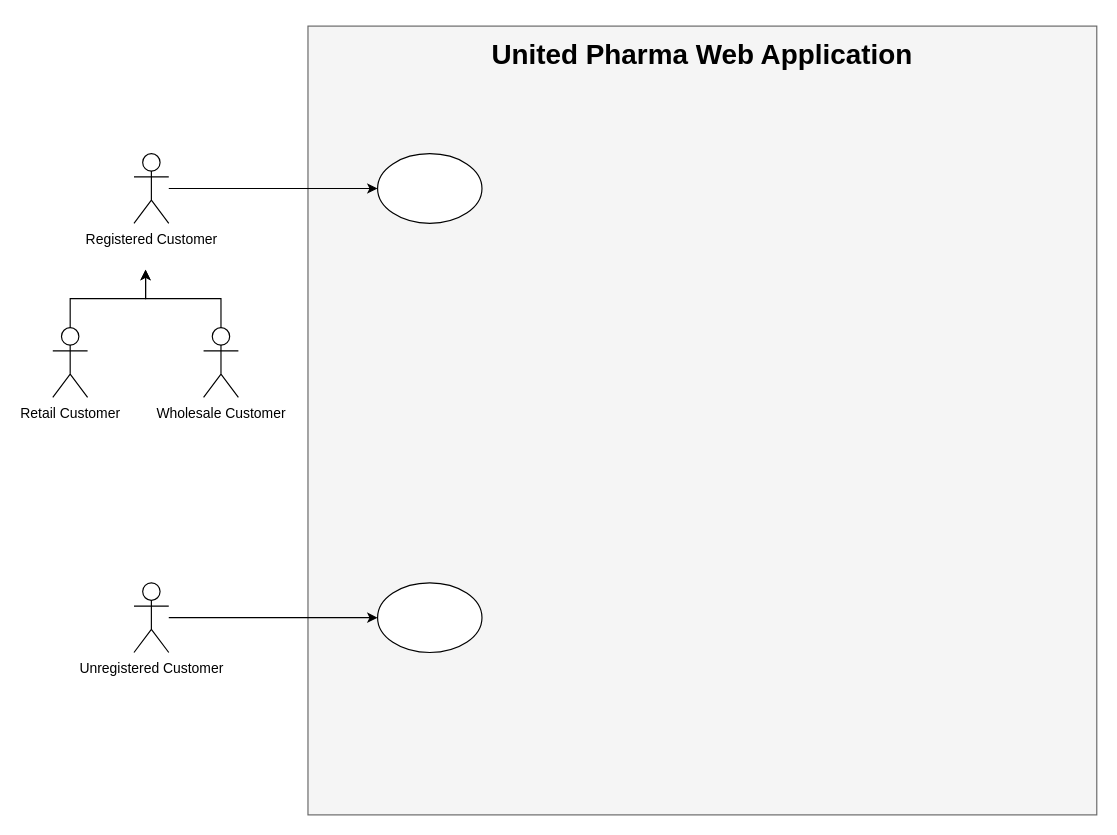
The diagram is 1117 pixels wide and 835 high, and some of its shapes have lost their labels. Here are the shapes that lost their labels. From the top down, the centre of each, then its label:
pixel 429 188: Login
pixel 429 617: Register
